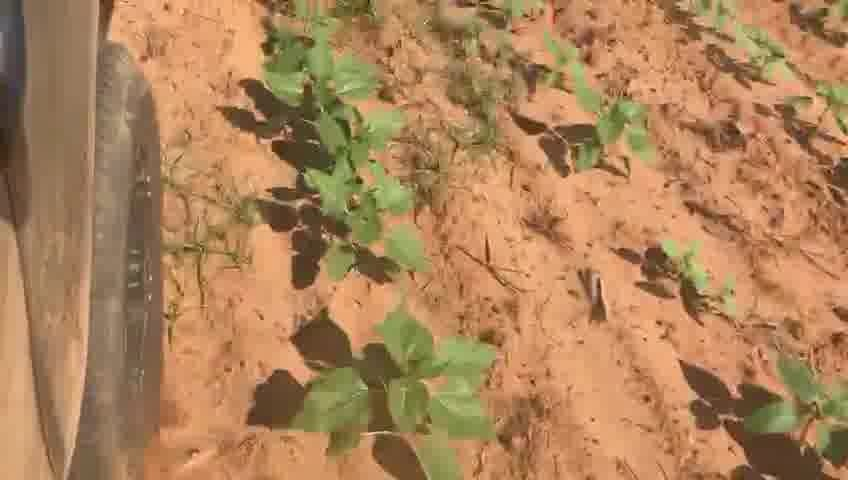sunflower: (284, 308, 502, 479), (251, 36, 403, 165), (290, 157, 435, 282), (741, 352, 842, 471), (651, 227, 750, 314), (568, 84, 656, 179)
